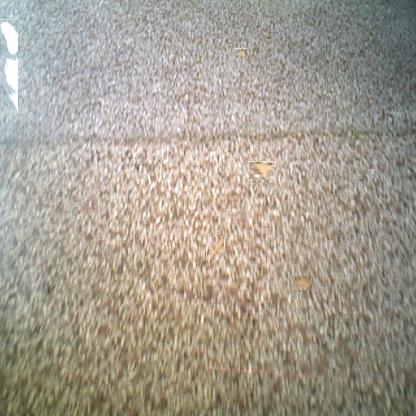dirty: (0, 19, 18, 114), (250, 159, 273, 182), (206, 236, 224, 260), (292, 276, 312, 290), (234, 48, 248, 59)
